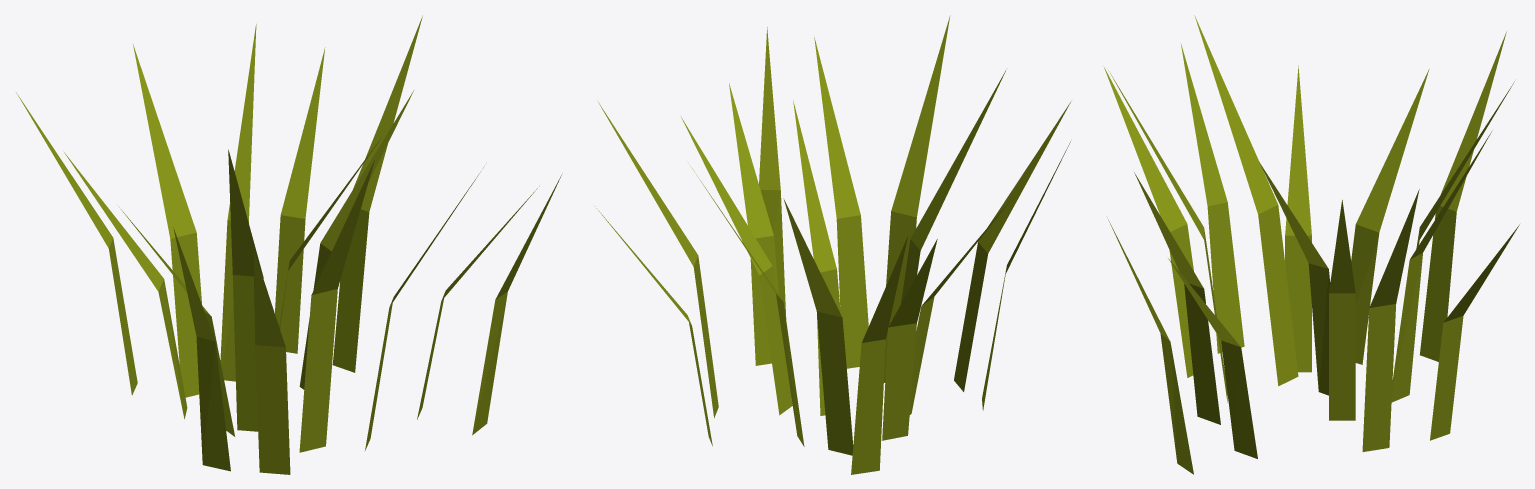
3 renders of one model, left to right at view 1: azimuth 30°, elevation 25°; view 2: azimuth 150°, elevation 25°; view 3: azimuth 270°, elevation 25°, orthographic. The views are drawn at different scales.
Size of the model in its own units: 126 by 110 by 124.
Materials: 1 (1 with a texture image).
